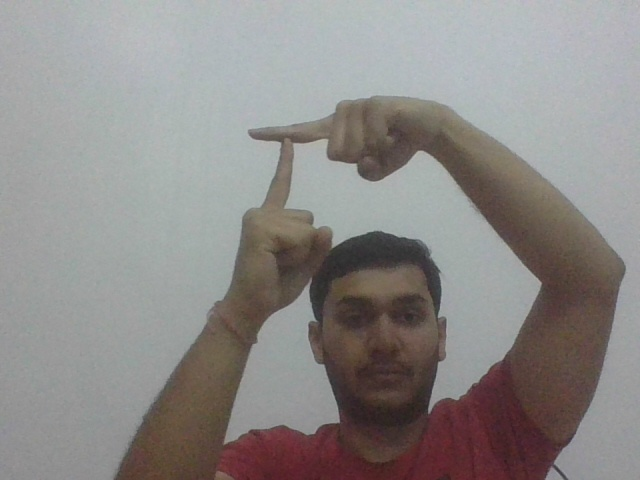T: (243, 117, 323, 205)
